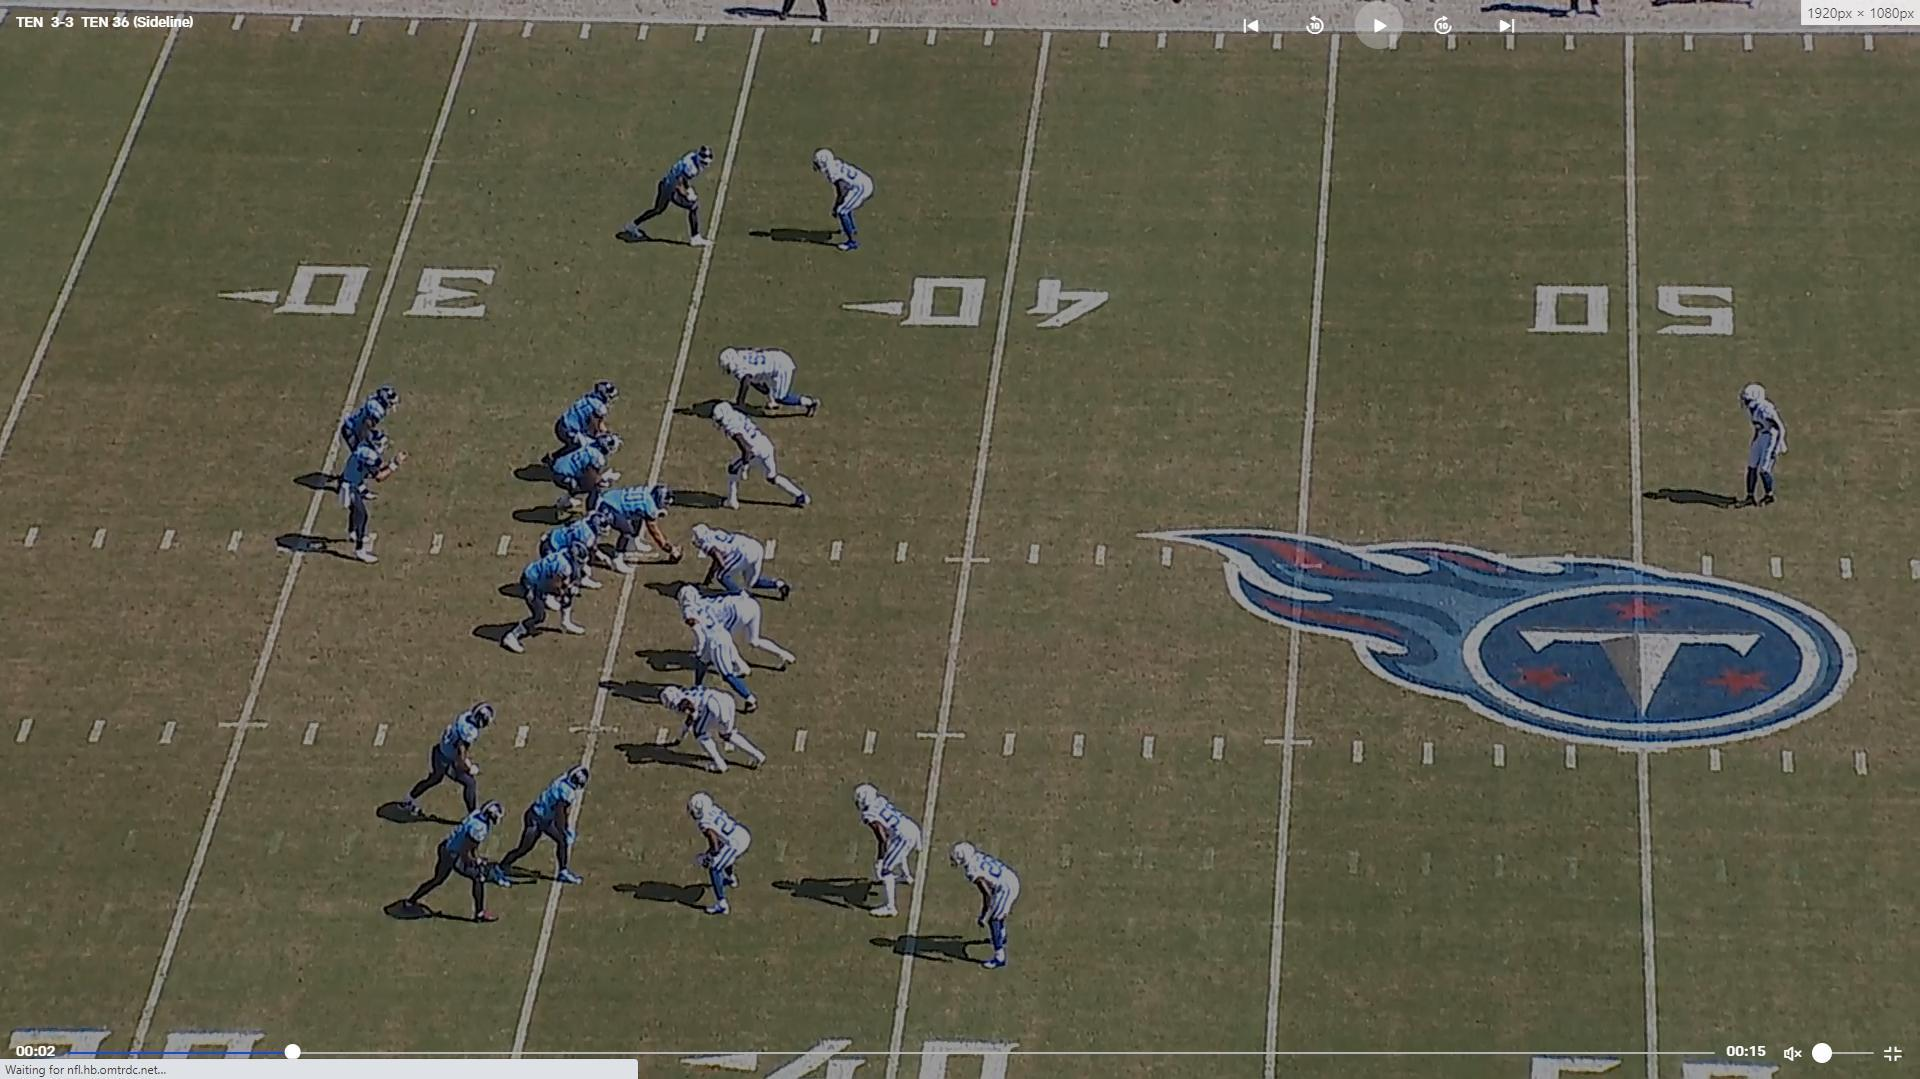player: (384, 795, 509, 924), (497, 766, 602, 896), (391, 694, 499, 818), (611, 137, 725, 251), (711, 399, 820, 515), (678, 583, 767, 710), (658, 681, 773, 779), (954, 840, 1032, 978), (685, 587, 800, 677), (511, 541, 602, 654), (850, 783, 925, 920), (330, 378, 406, 506), (676, 790, 748, 922), (689, 524, 799, 607), (585, 483, 678, 576), (346, 426, 406, 565), (810, 142, 878, 262), (718, 348, 821, 424), (530, 511, 615, 600), (1730, 378, 1788, 508), (547, 429, 625, 522), (548, 374, 625, 457)
